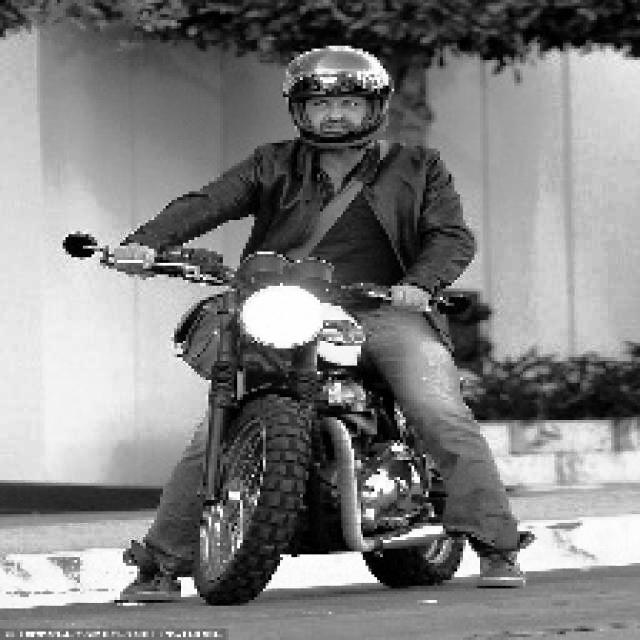Bike: (34, 218, 465, 602)
